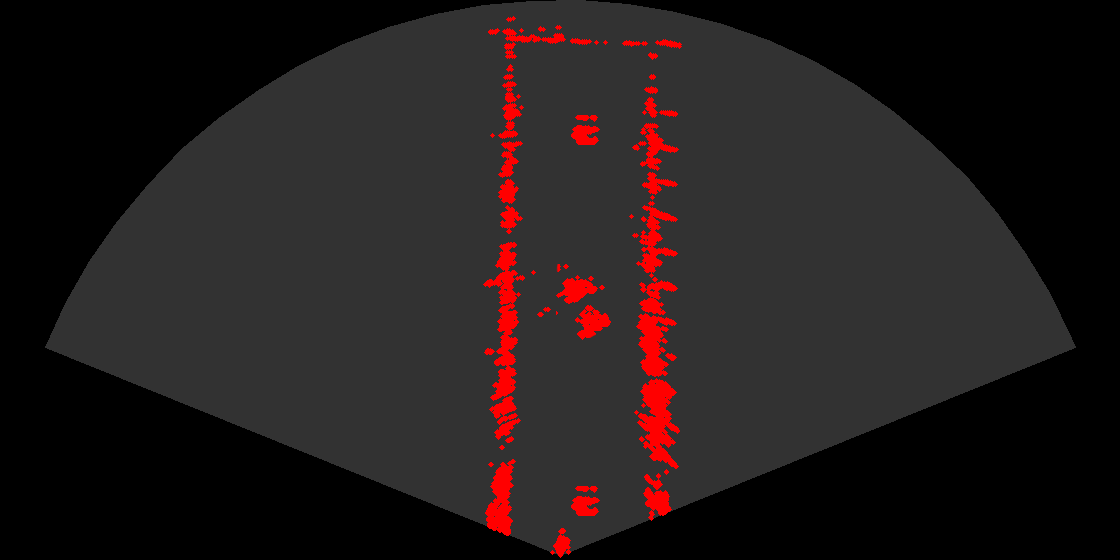ball: (551, 478, 611, 519), (551, 107, 611, 148)
cage: (556, 264, 619, 348)
